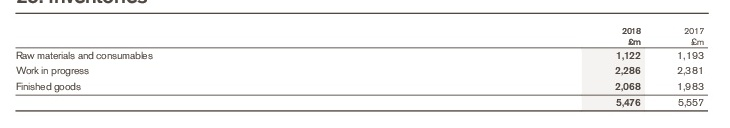table: (0, 0, 730, 128)
